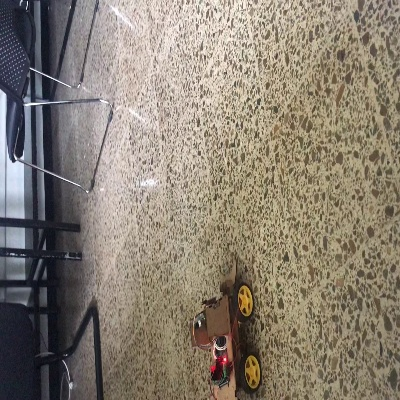Robot: (189, 260, 262, 399)
